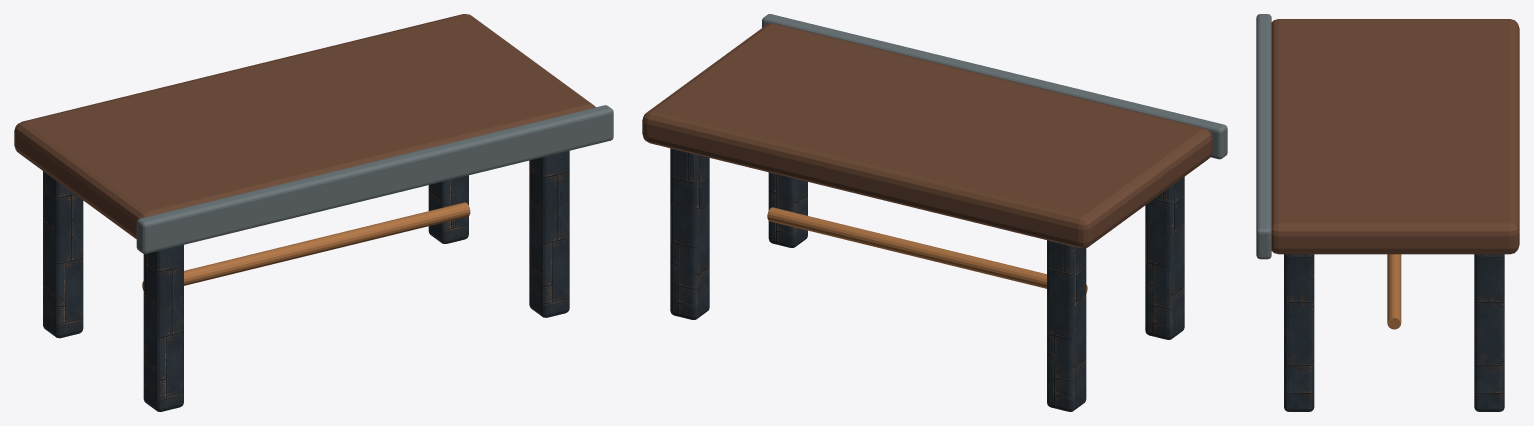
Rendered from APT_Table_Dining_Service.glb.
The picture shows the model from 3 angles, left to right: view 1: azimuth 30°, elevation 25°; view 2: azimuth 150°, elevation 25°; view 3: azimuth 270°, elevation 25°; orthographic projection. The views are drawn at different scales.
Visible parts, largest first — view 1: APT_Table_Dining_Service_Top, APT_Table_Dining_Service_Edge, APT_Table_Dining_Service_Leg_0.756_-0.342, APT_Table_Dining_Service_Leg_-0.756_-0.342, APT_Table_Dining_Service_Leg_-0.756_0.342, APT_Table_Dining_Service_Brace, APT_Table_Dining_Service_Leg_0.756_0.342; view 2: APT_Table_Dining_Service_Top, APT_Table_Dining_Service_Leg_0.756_0.342, APT_Table_Dining_Service_Leg_-0.756_0.342, APT_Table_Dining_Service_Leg_-0.756_-0.342, APT_Table_Dining_Service_Edge, APT_Table_Dining_Service_Brace, APT_Table_Dining_Service_Leg_0.756_-0.342; view 3: APT_Table_Dining_Service_Top, APT_Table_Dining_Service_Leg_0.756_-0.342, APT_Table_Dining_Service_Leg_0.756_0.342, APT_Table_Dining_Service_Edge, APT_Table_Dining_Service_Brace.
Part boxes in pixels (x1,y1,x2,y2): APT_Table_Dining_Service_Top: (14,14,595,238); APT_Table_Dining_Service_Edge: (136,105,613,253); APT_Table_Dining_Service_Leg_0.756_-0.342: (529,151,569,317); APT_Table_Dining_Service_Leg_-0.756_-0.342: (143,245,183,411); APT_Table_Dining_Service_Leg_-0.756_0.342: (43,171,83,338); APT_Table_Dining_Service_Brace: (142,202,470,290); APT_Table_Dining_Service_Leg_0.756_0.342: (428,175,468,243); APT_Table_Dining_Service_Top: (642,23,1212,248); APT_Table_Dining_Service_Leg_0.756_0.342: (670,148,709,319); APT_Table_Dining_Service_Leg_-0.756_0.342: (1047,240,1086,411); APT_Table_Dining_Service_Leg_-0.756_-0.342: (1145,177,1184,339); APT_Table_Dining_Service_Edge: (762,14,1227,159); APT_Table_Dining_Service_Brace: (767,207,1087,293); APT_Table_Dining_Service_Leg_0.756_-0.342: (768,172,807,247); APT_Table_Dining_Service_Top: (1271,19,1519,254); APT_Table_Dining_Service_Leg_0.756_-0.342: (1284,254,1314,411); APT_Table_Dining_Service_Leg_0.756_0.342: (1474,254,1504,411); APT_Table_Dining_Service_Edge: (1256,14,1271,259); APT_Table_Dining_Service_Brace: (1387,254,1401,329).
Bounding box in the file's own units: 1.85 × 0.78 × 0.9455.
Materials: 4 (1 with a texture image).
